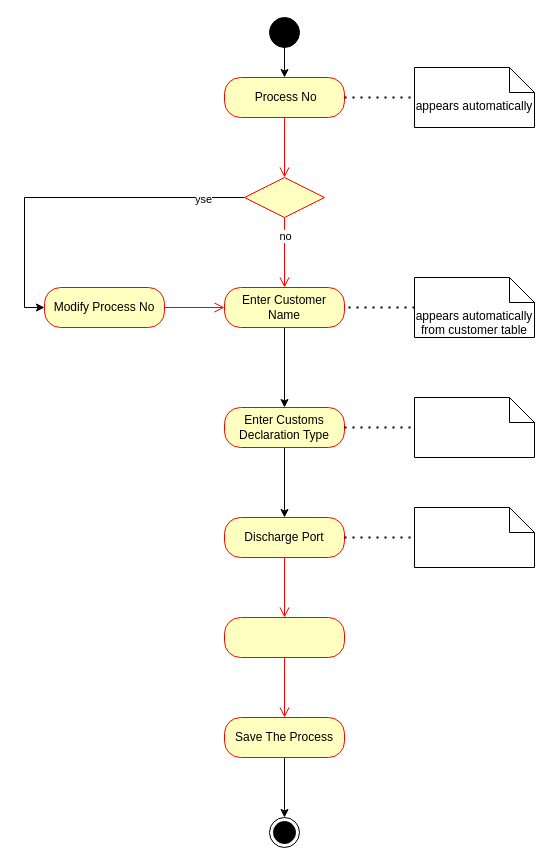
Some shapes in this 552 by 865 pixel diagram are drawn without their labels. The shapes that lost their labels are listed below. From the top down, each one's centre as x and y in pixels, then its label:
At pixel 284 197: "Modify".
At pixel 474 427: "Import or Export".
At pixel 474 537: "appears list from ports table".
At pixel 284 637: "Enter Containers Details".
